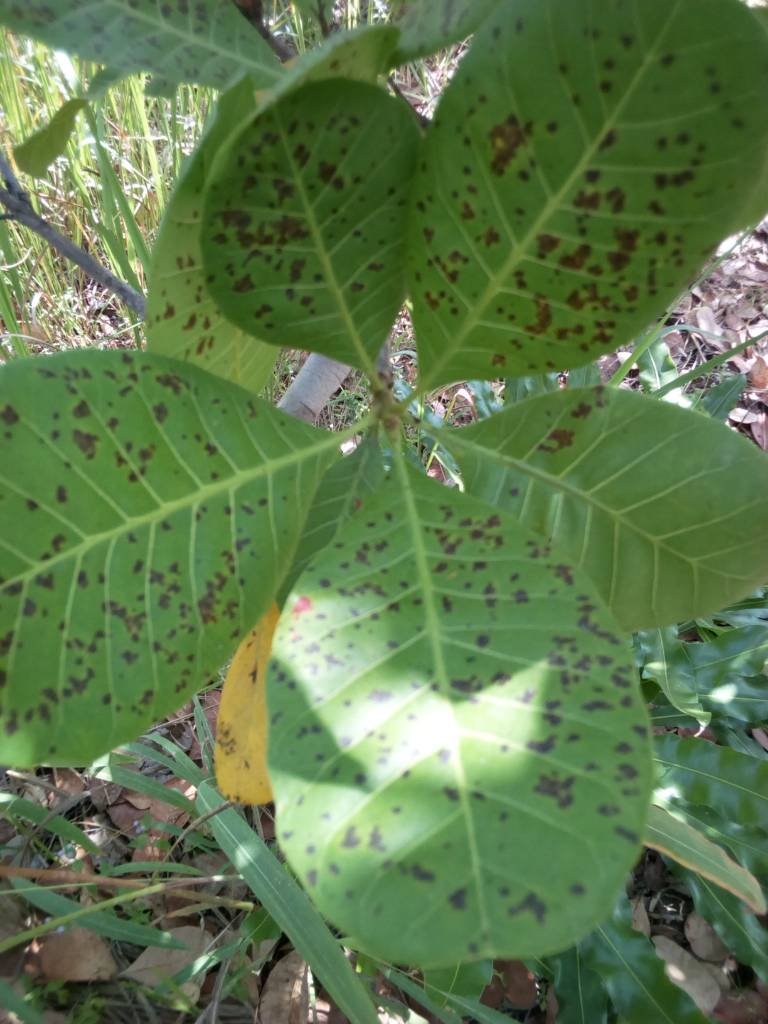Anthracnose: (263, 450, 644, 964), (413, 1, 768, 399), (1, 363, 347, 771), (218, 71, 408, 375)
